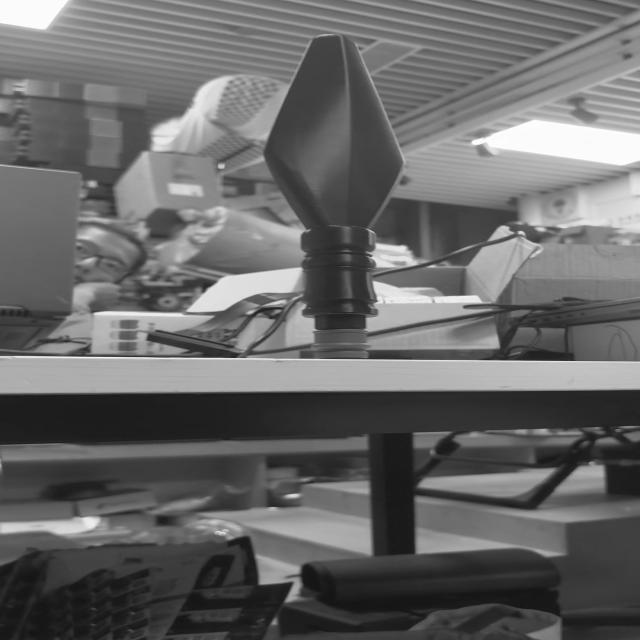base: (318, 326, 370, 359)
